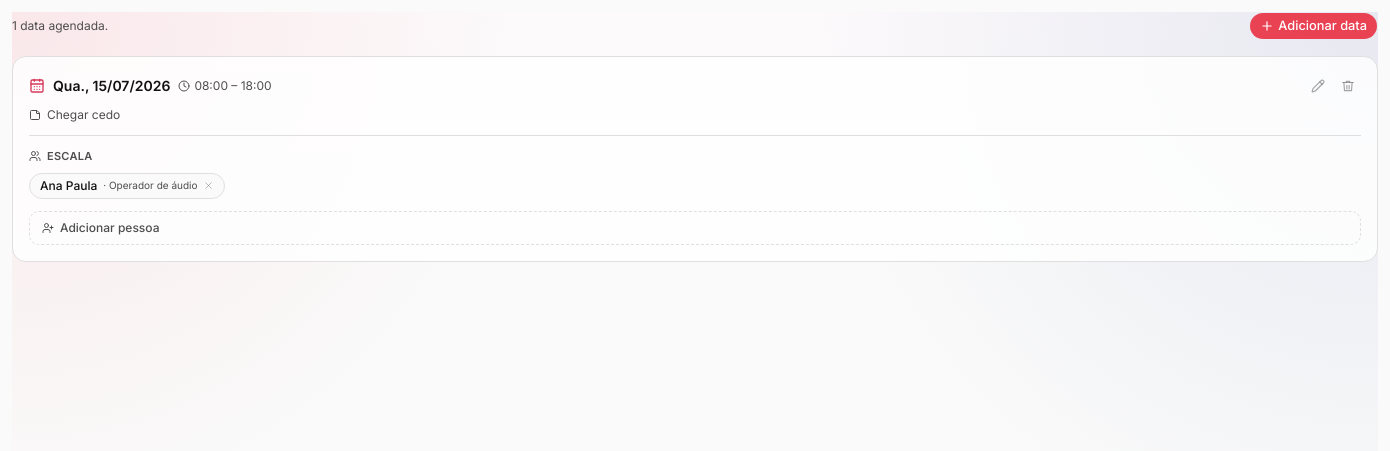
Test: EventDatesPanel › mostra o campo de papel personalizado ao escolher 'outro'
Click the heading "Adicionar pessoa": (101, 227) [42,220,160,234]
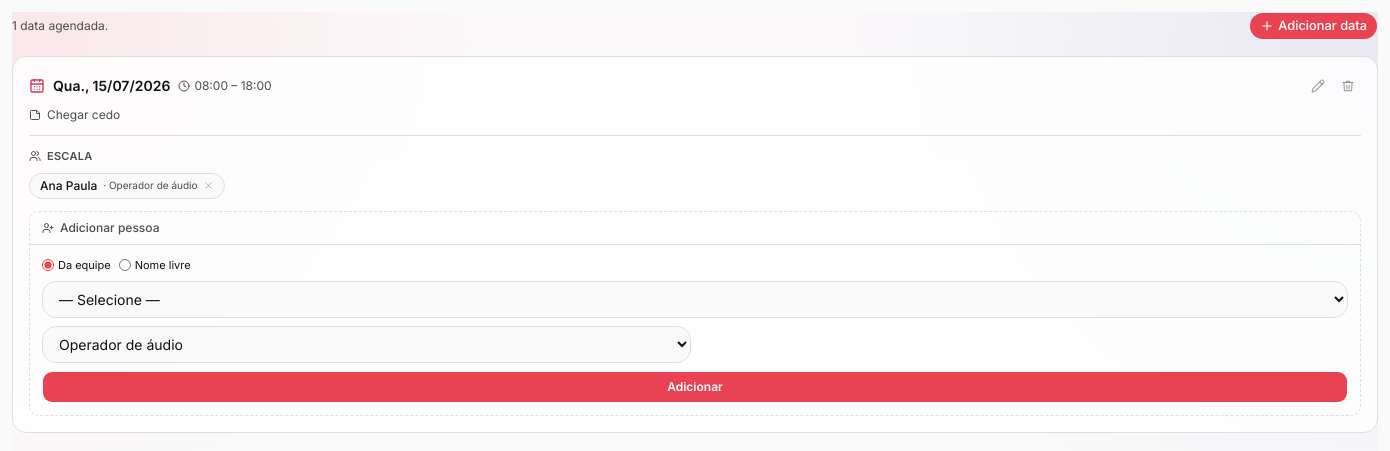
Select "Outro" in the 2nd dropdown named "role": (366, 344) [42,326,691,363]
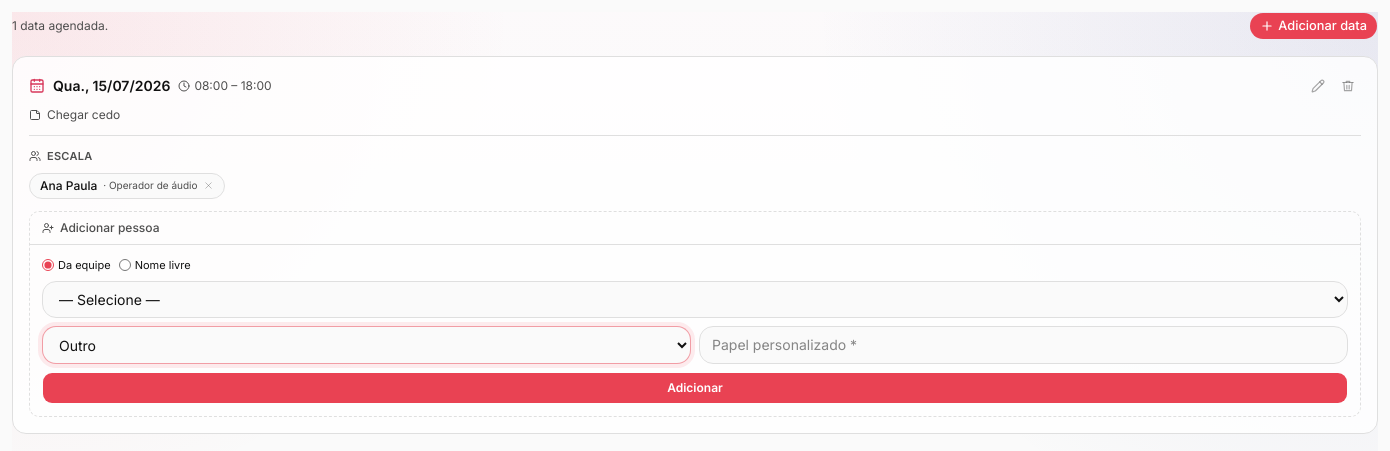
Result: the field with placeholder "Papel personalizado *" is shown at [699,326,1348,364]
